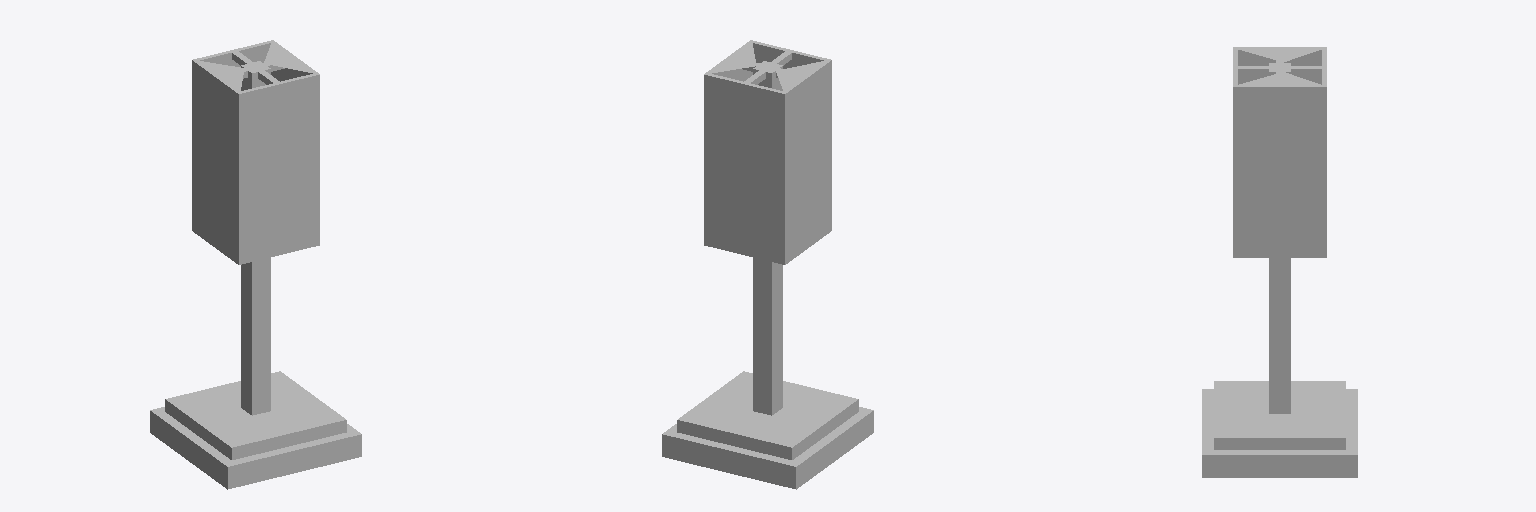
The model's file is LampSPExport.obj.
The picture shows the model from 3 angles: view 1: azimuth 30°, elevation 25°; view 2: azimuth 150°, elevation 25°; view 3: azimuth 270°, elevation 25°; orthographic projection.
Parts seen in each view (by area): view 1: pCube3; view 2: pCube3; view 3: pCube3.
Boxes of the visible parts, <box> form: pCube3: <box>150,40,361,489</box>; pCube3: <box>662,40,873,489</box>; pCube3: <box>1202,47,1357,477</box>.
Size of the model in its own units: 3.7 by 9.92 by 3.7.